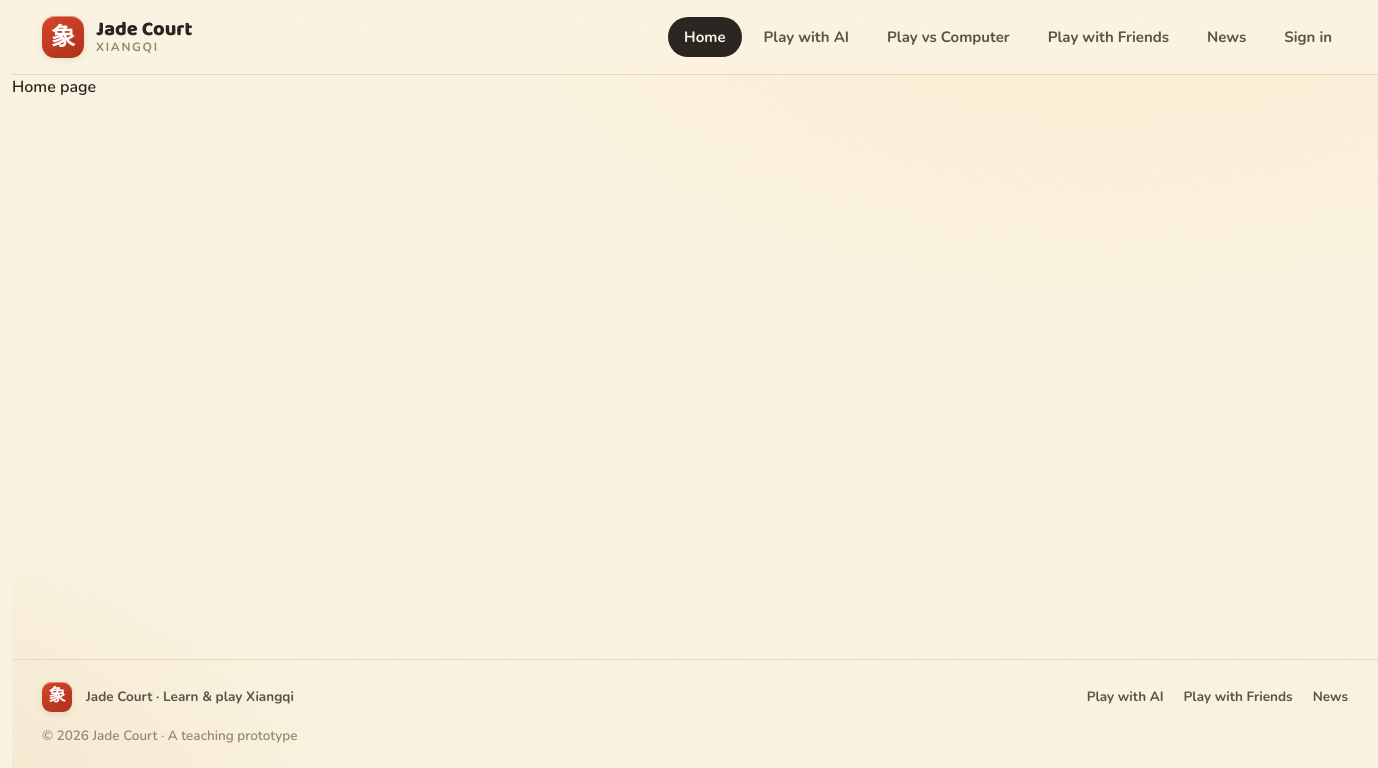
Test: App shell › footer links point to Play with AI, Play with Friends, and News
Click the link "News" in the row of "Jade Court · Learn & play Xiangqi" at (1330, 697), box [1313,687,1348,707]
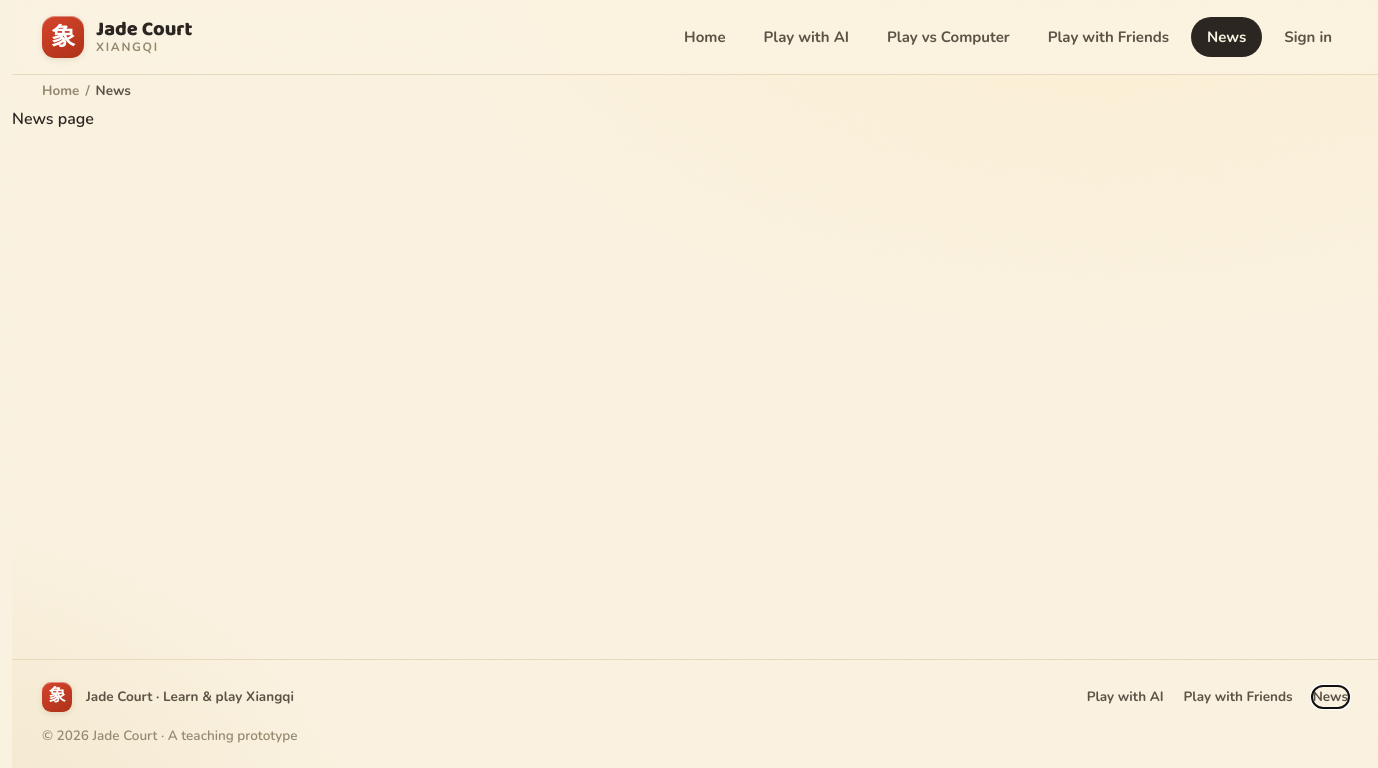
Check: the text "News page" is shown, box [12,108,94,130]
